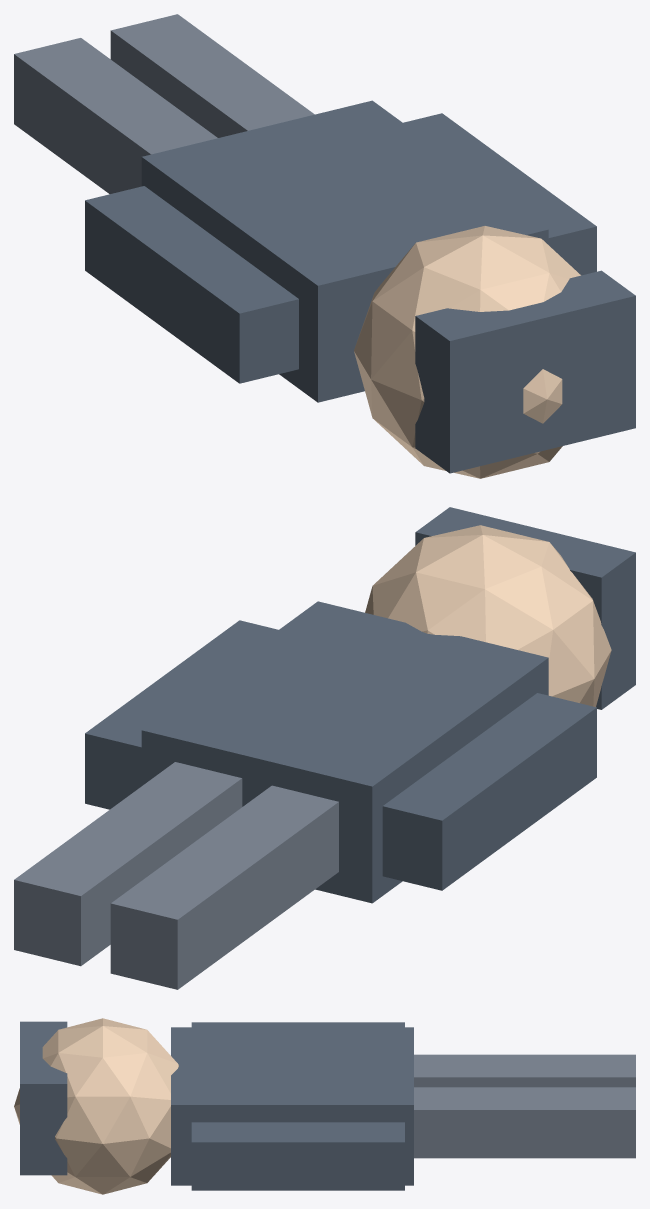
File: ceo.glb
3 views of the same model, one above another, from view 1: azimuth 30°, elevation 25°; view 2: azimuth 150°, elevation 25°; view 3: azimuth 270°, elevation 25° (orthographic). The views are drawn at different scales.
Parts seen in each view (by area): view 1: torso_2, hair_6, arm_l_3, head_5, leg_l_0, leg_r_1, arm_r_4; view 2: torso_2, leg_l_0, arm_l_3, head_5, leg_r_1, arm_r_4, hair_6; view 3: torso_2, head_5, leg_r_1, arm_r_4, leg_l_0, hair_6, arm_l_3.
Boxes of the visible parts, <box> form: torso_2: <box>141,100,548,402</box>; hair_6: <box>415,270,635,473</box>; arm_l_3: <box>85,186,298,383</box>; head_5: <box>354,226,580,478</box>; leg_l_0: <box>14,38,217,193</box>; leg_r_1: <box>110,14,314,137</box>; arm_r_4: <box>403,113,596,275</box>; torso_2: <box>141,601,548,903</box>; leg_l_0: <box>110,785,338,989</box>; arm_l_3: <box>382,693,596,890</box>; head_5: <box>365,525,611,706</box>; leg_r_1: <box>14,762,242,966</box>; arm_r_4: <box>85,620,278,809</box>; hair_6: <box>415,507,635,709</box>; torso_2: <box>171,1027,413,1185</box>; head_5: <box>14,1018,178,1194</box>; leg_r_1: <box>414,1087,635,1158</box>; arm_r_4: <box>191,1122,404,1190</box>; leg_l_0: <box>414,1054,635,1087</box>; hair_6: <box>20,1021,67,1175</box>; arm_l_3: <box>191,1022,404,1027</box>.
Size of the model in its own units: 0.96 by 0.6 by 2.1.
